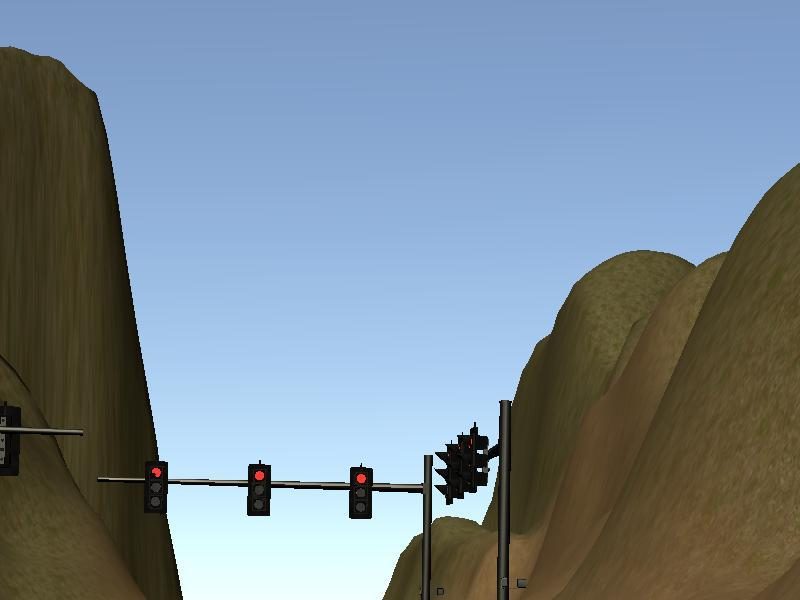Red: (248, 466, 269, 514), (147, 462, 167, 512), (353, 469, 372, 518)
